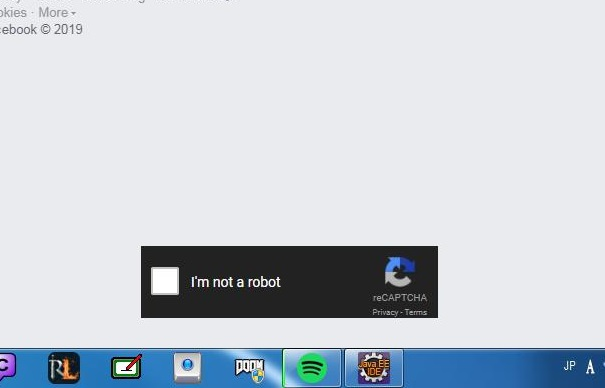captcha: (150, 266, 281, 295)
